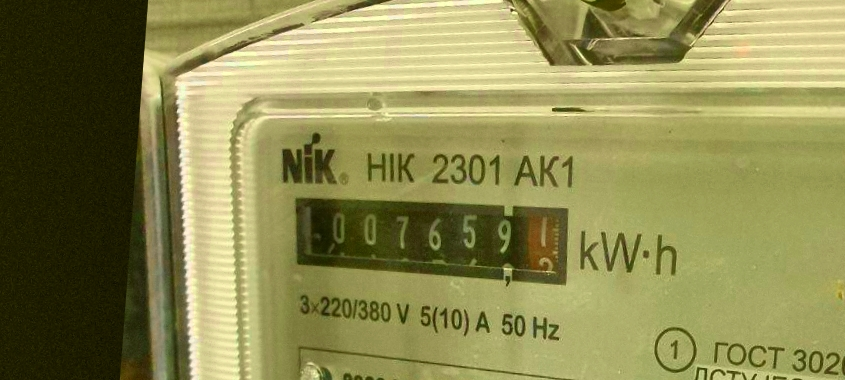0: (358, 208, 381, 250), (327, 208, 350, 248)
1: (532, 212, 553, 251)
5: (456, 211, 481, 252)
6: (422, 212, 447, 255)
7: (389, 211, 414, 251)
9: (492, 215, 516, 257)
screen: (280, 182, 578, 295)
